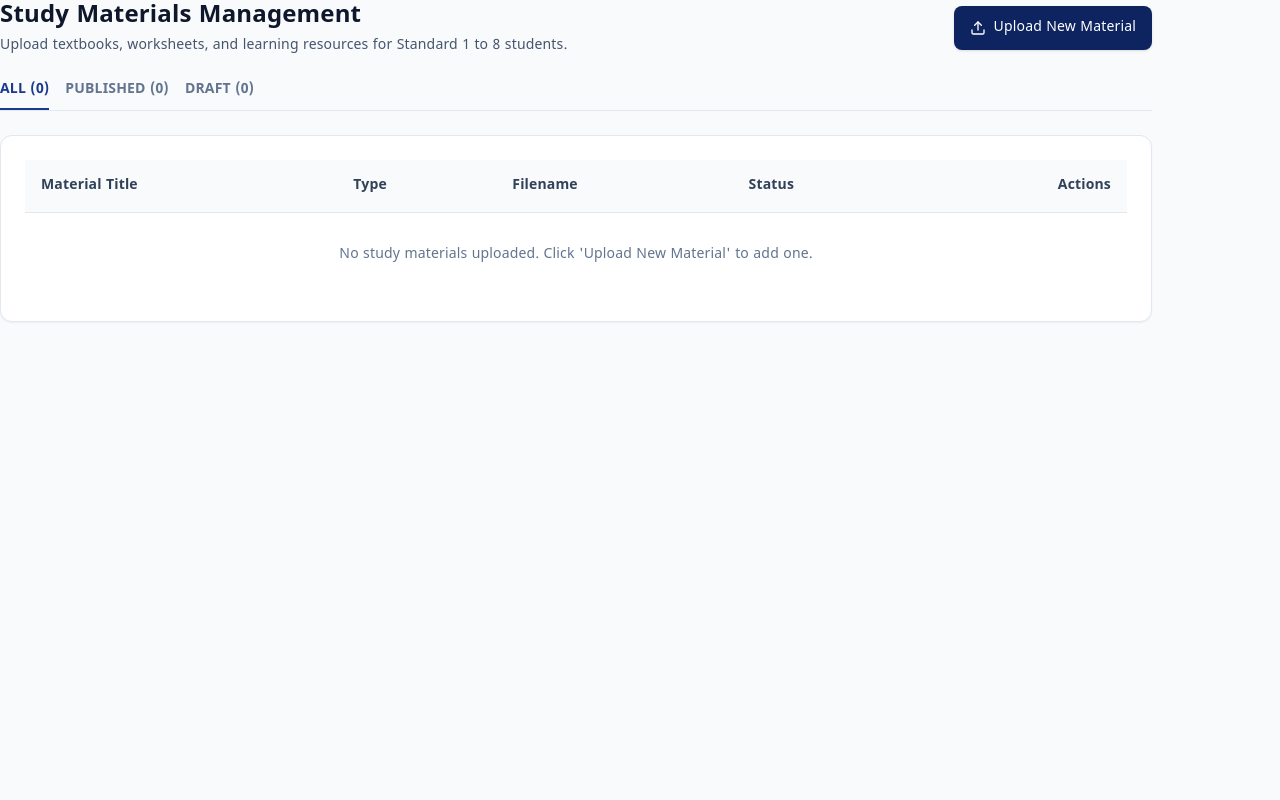
it: AdminMaterialsPage › keeps the upload form limited to title and file
Click the button "Upload New Material": (1053, 28) x1=954 y1=6 x2=1152 y2=50
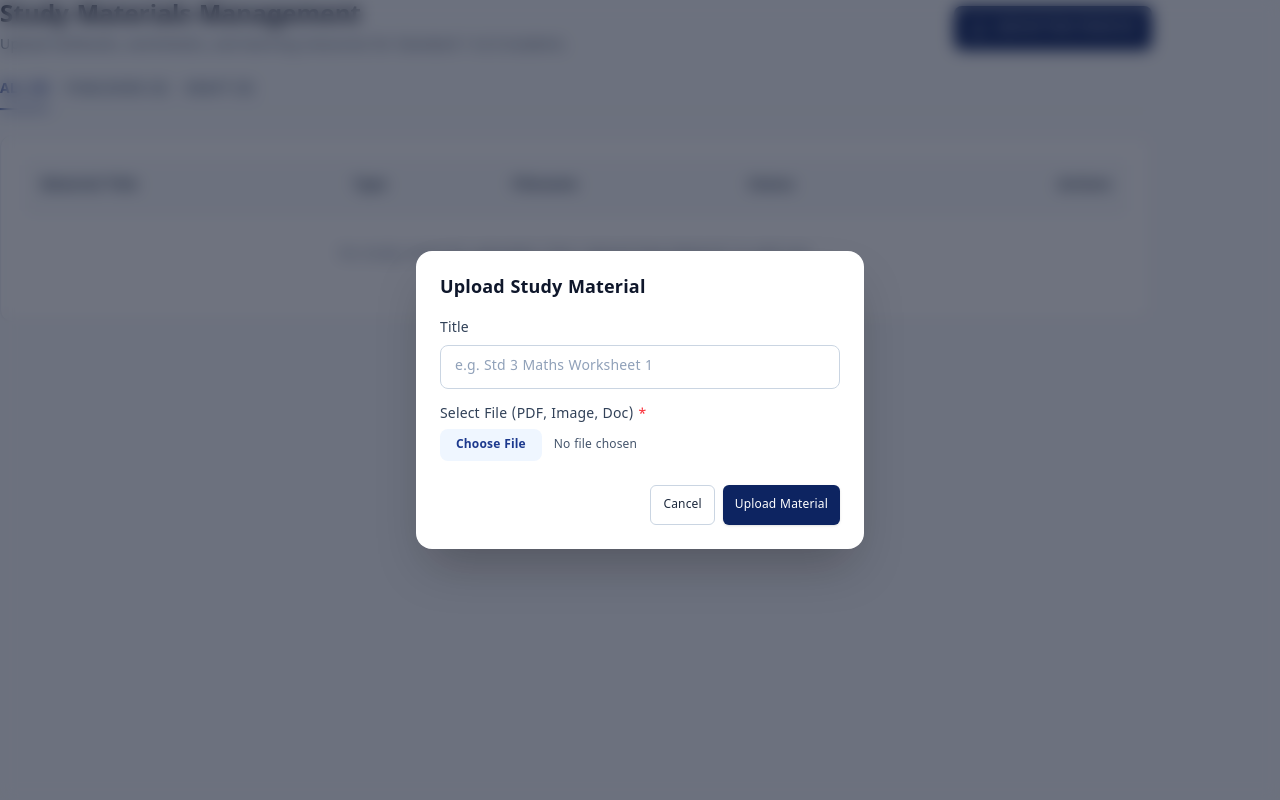
expect the field labelled "Title" is shown: met, box x1=440 y1=345 x2=840 y2=389
expect the file field is shown: met, box x1=440 y1=429 x2=840 y2=461
